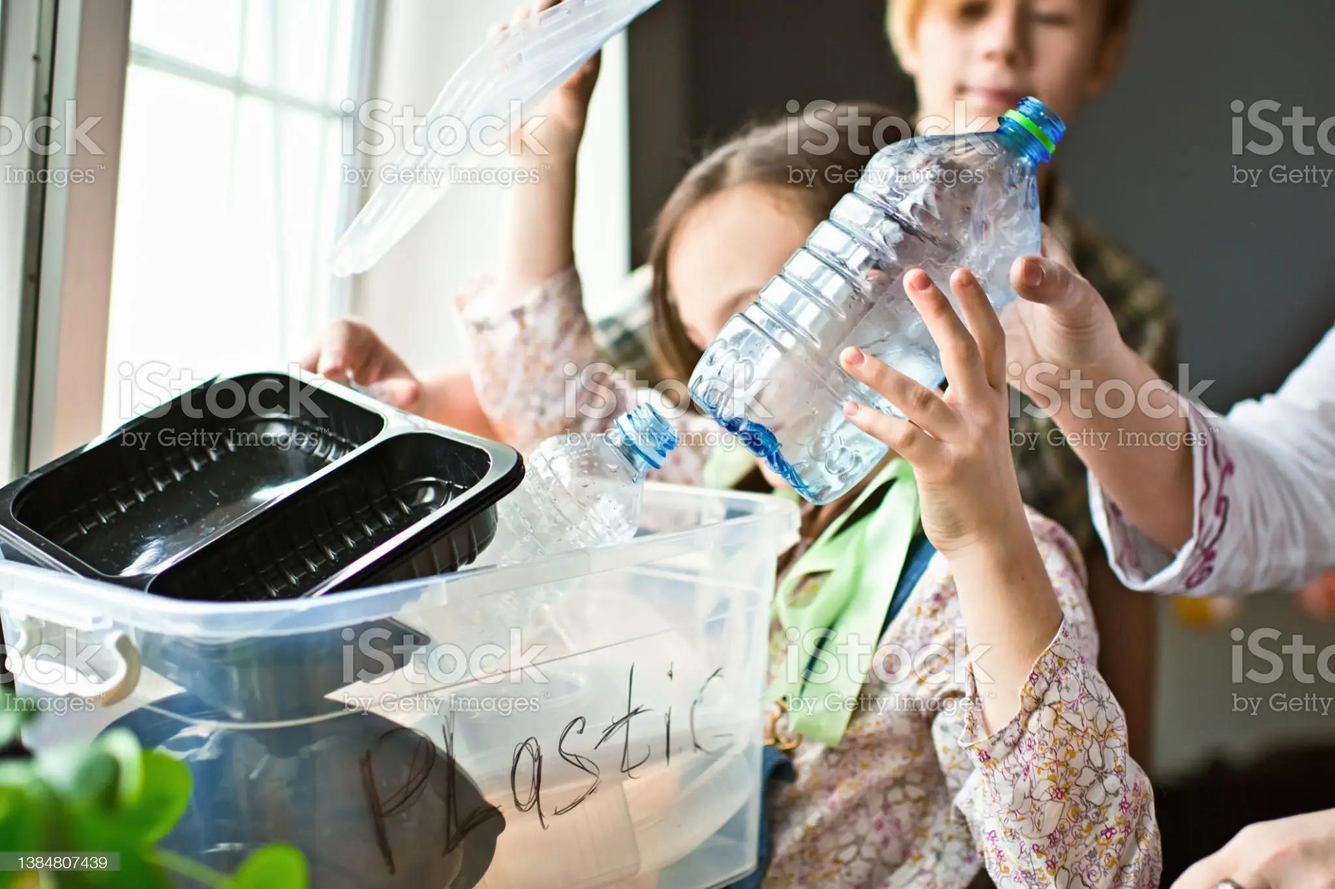Plastic: (670, 90, 1079, 510), (0, 359, 535, 603), (488, 398, 680, 561)
